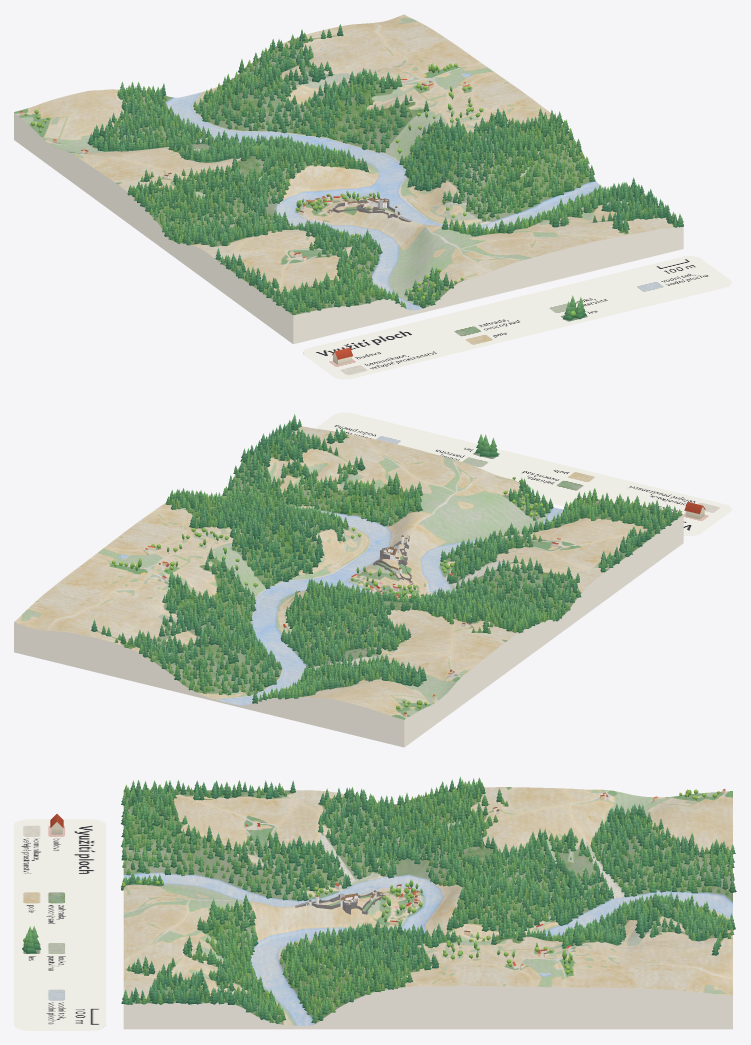
The model's file is Zvikov_base_sada4.glb.
3 views of the same model, one above another, from view 1: azimuth 30°, elevation 25°; view 2: azimuth 150°, elevation 25°; view 3: azimuth 270°, elevation 25° (orthographic). The views are drawn at different scales.
Visible parts, largest first — view 1: DMR_1953, Zvikov_stromy_body, legenda_panel, Node0, legenda_objekty; view 2: DMR_1953, Zvikov_stromy_body, legenda_panel, Node0, legenda_objekty; view 3: DMR_1953, Zvikov_stromy_body, legenda_panel, Node0, Budovy_vyber_—_co_final_all_dissolve_budovy, legenda_objekty.
Boxes of the visible parts, <box> form: DMR_1953: <box>14,14,683,344</box>; Zvikov_stromy_body: <box>24,24,683,314</box>; legenda_panel: <box>303,256,731,379</box>; Node0: <box>327,197,411,222</box>; legenda_objekty: <box>332,295,586,365</box>; DMR_1953: <box>14,426,683,747</box>; Zvikov_stromy_body: <box>91,414,682,713</box>; legenda_panel: <box>315,412,731,535</box>; Node0: <box>373,535,413,584</box>; legenda_objekty: <box>475,434,705,519</box>; DMR_1953: <box>123,787,732,1029</box>; Zvikov_stromy_body: <box>121,776,736,1023</box>; legenda_panel: <box>14,819,106,1030</box>; Node0: <box>295,890,385,914</box>; Budovy_vyber_—_co_final_all_dissolve_budovy: <box>245,789,725,968</box>; legenda_objekty: <box>22,814,63,953</box>.
Size of the model in its own units: 1490 by 182 by 2153.
5 materials, 2 textured.
